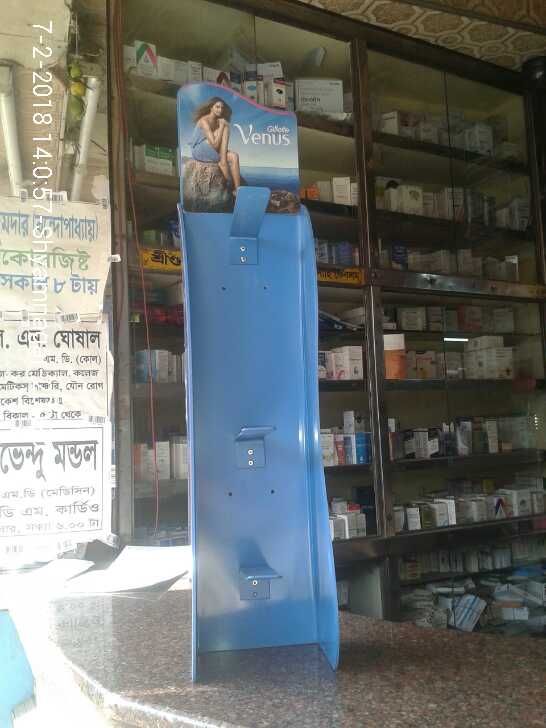reject: (239, 318, 322, 418)
